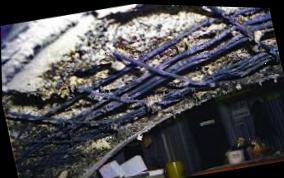exposed_rebar: (47, 17, 281, 121), (206, 6, 253, 39), (245, 14, 272, 25), (234, 7, 264, 16), (248, 22, 273, 32)
spalling: (2, 4, 284, 178)
